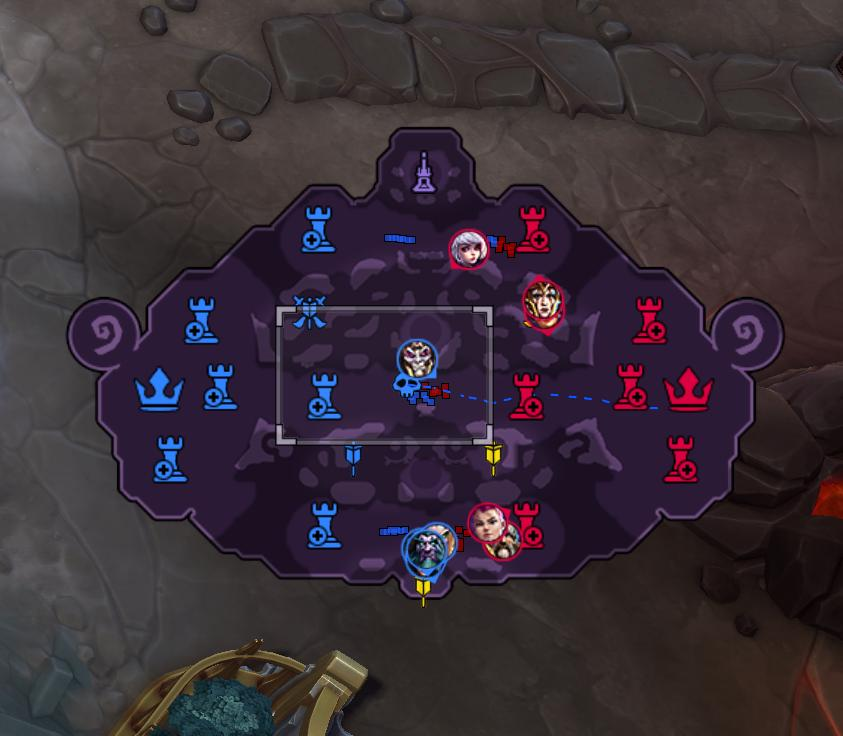blue nexus: (133, 365, 186, 413)
blue player: (396, 339, 437, 383), (407, 528, 443, 572), (422, 521, 458, 565)
blue tower: (202, 362, 239, 412), (300, 203, 336, 254), (183, 295, 220, 344), (307, 371, 343, 421), (307, 500, 343, 550), (152, 435, 189, 483)
red nexus: (660, 365, 714, 413)
red player: (521, 275, 566, 334), (467, 502, 510, 545), (448, 228, 489, 271), (484, 519, 523, 561)
red tower: (661, 435, 699, 484), (515, 205, 551, 255), (631, 295, 667, 345), (508, 370, 543, 421), (612, 363, 648, 411), (513, 500, 544, 548)
